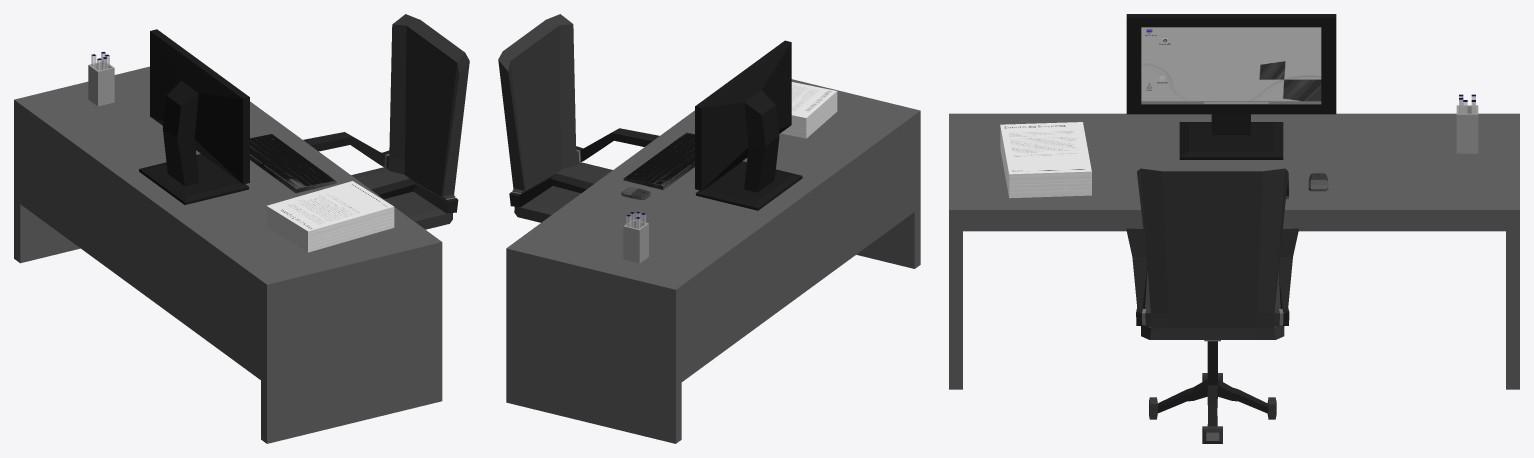
The model's file is Carteira(Escritório).glb.
The picture shows the model from 3 angles, left to right: view 1: azimuth 30°, elevation 25°; view 2: azimuth 150°, elevation 25°; view 3: azimuth 270°, elevation 25°; orthographic projection. The views are drawn at different scales.
Parts seen in each view (by area): view 1: Desk-convcol, Chair-convcol, Monitor(alt), Paper_Pile, Keyboard, Pencil_Cup; view 2: Desk-convcol, Chair-convcol, Monitor(alt), Keyboard, Paper_Pile, Pencil_Cup; view 3: Desk-convcol, Chair-convcol, Monitor(alt), Paper_Pile, Pencil_Cup.
Boxes of the visible parts, x1,y1,x2,y2 form: Desk-convcol: [14, 66, 442, 443]; Chair-convcol: [303, 14, 469, 229]; Monitor(alt): [139, 29, 249, 204]; Paper_Pile: [266, 181, 394, 252]; Keyboard: [250, 134, 336, 193]; Pencil_Cup: [88, 52, 114, 106]; Desk-convcol: [506, 79, 920, 443]; Chair-convcol: [498, 14, 659, 222]; Monitor(alt): [695, 40, 802, 210]; Keyboard: [623, 132, 694, 189]; Paper_Pile: [780, 82, 837, 138]; Pencil_Cup: [623, 212, 648, 263]; Desk-convcol: [949, 113, 1519, 389]; Chair-convcol: [1126, 168, 1298, 443]; Monitor(alt): [1126, 14, 1336, 159]; Paper_Pile: [1000, 122, 1091, 198]; Pencil_Cup: [1456, 94, 1478, 153].
Size of the model in its own units: 1.67 by 1.5 by 2.5.
17 materials, 3 textured.
